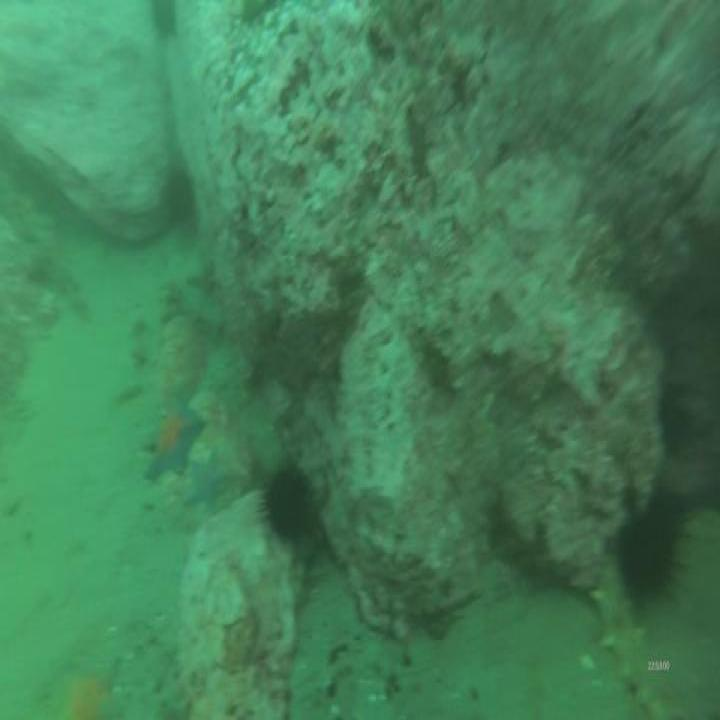echinus: (624, 500, 678, 596), (265, 464, 313, 542), (162, 165, 197, 231)
holothurian: (590, 569, 668, 720), (166, 281, 225, 336)
scallop: (576, 652, 594, 678)
starfish: (144, 404, 207, 469), (57, 658, 117, 720), (183, 466, 220, 501)
